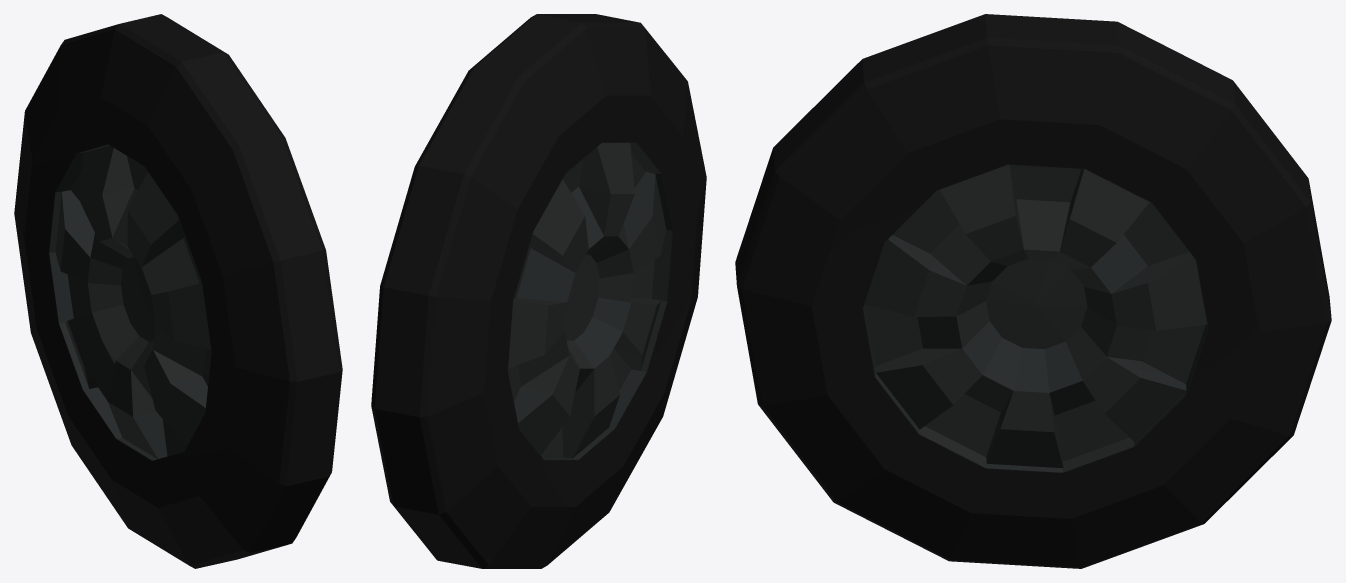
The model's file is front wheel.fbx.
3 renders of one model, left to right at view 1: azimuth 30°, elevation 25°; view 2: azimuth 150°, elevation 25°; view 3: azimuth 270°, elevation 25°, orthographic. The views are drawn at different scales.
Visible parts, largest first — view 1: front wheel.001; view 2: front wheel.001; view 3: front wheel.001.
Part boxes in pixels (x1=…): front wheel.001: x1=14, y1=14, x2=342, y2=568; front wheel.001: x1=371, y1=14, x2=706, y2=568; front wheel.001: x1=735, y1=14, x2=1331, y2=568.
Size of the model in its own units: 30.69 by 118 by 119.
